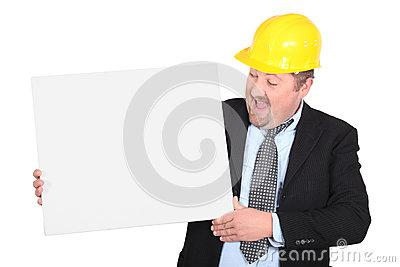helmet: (234, 14, 323, 74)
